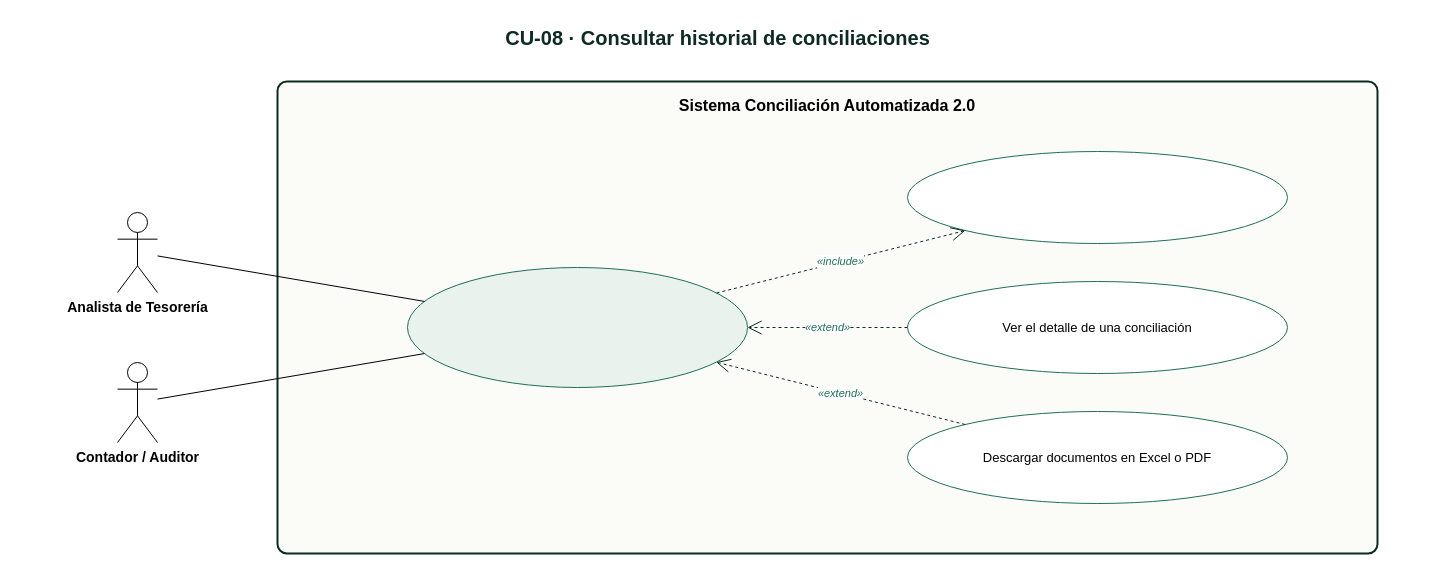
This 1434x571 diagram has some shape labels left out. The shapes that lost their labels are listed below. From the top down, each one's centre as x and y in pixels, then its label:
At point 1097,197: "Filtrar por moneda, período conciliado o fecha".
At point 577,327: "CU-08 Consultar historial de conciliaciones".
